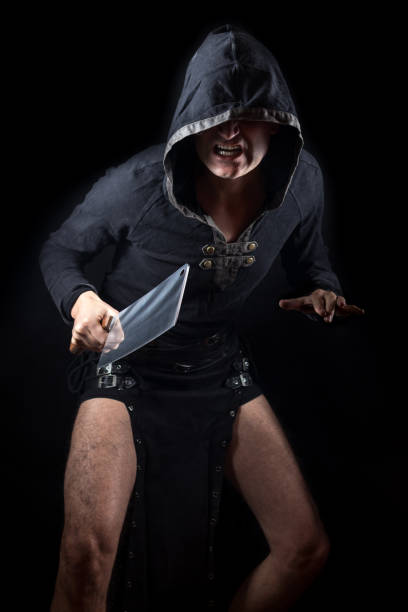knife: (92, 261, 193, 378)
